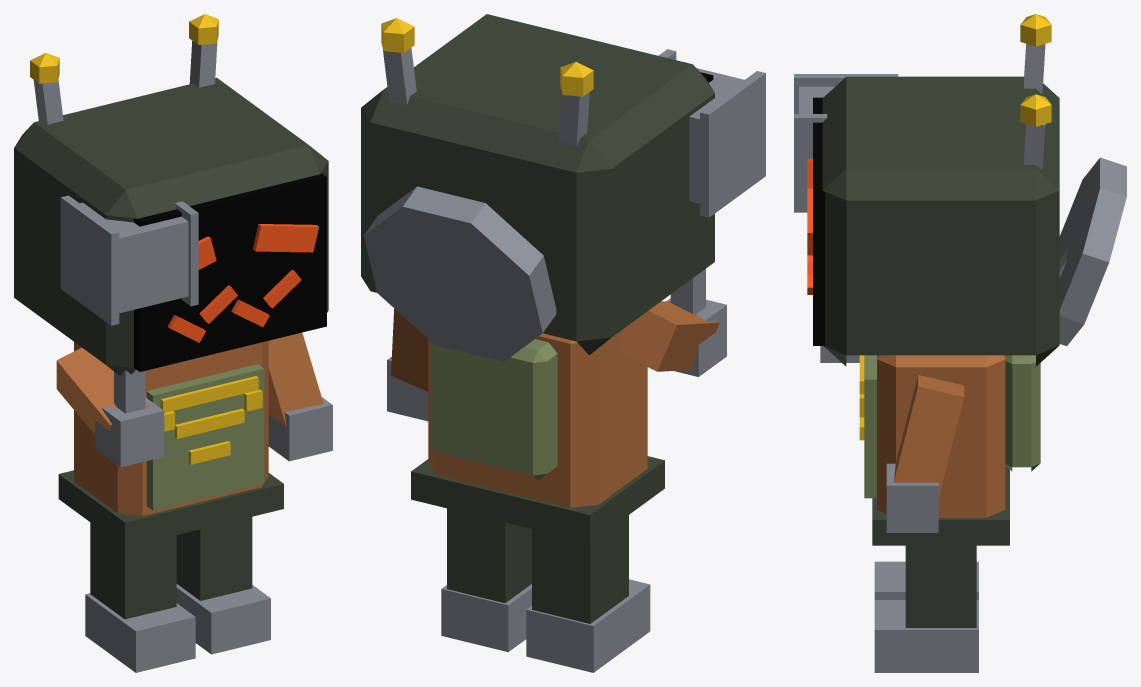
The model's file is weakener_r7.glb.
3 renders of one model, left to right at view 1: azimuth 30°, elevation 25°; view 2: azimuth 150°, elevation 25°; view 3: azimuth 270°, elevation 25°, orthographic. The views are drawn at different scales.
Visible parts, largest first — view 1: weakener_r7_mesh; view 2: weakener_r7_mesh; view 3: weakener_r7_mesh.
Boxes of the visible parts, left/top/right/bottom form: weakener_r7_mesh: left=14, top=14, right=332, bottom=672; weakener_r7_mesh: left=361, top=14, right=765, bottom=672; weakener_r7_mesh: left=794, top=14, right=1126, bottom=672.
Bounding box in the file's own units: 0.7882 × 1.6 × 0.8252.
Materials: 1 (1 with a texture image).
